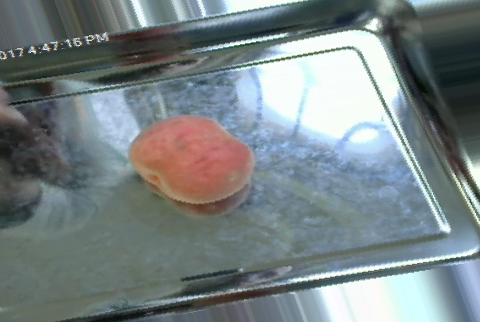Peach: (128, 115, 252, 204)
